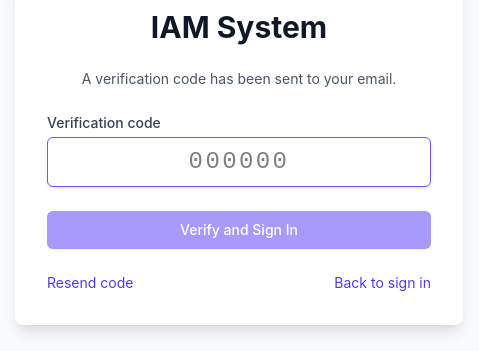
Test: MagicLinkCallbackPage › when the account has email 2FA enabled › resends the code on request
Click the button "Resend code".
click(90, 283)  # box [47,273,133,293]
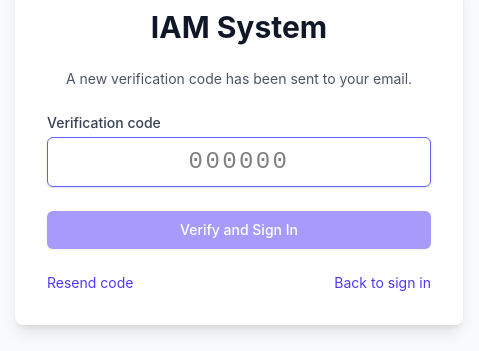
Result: the text "A new verification code has been sent to your email." is shown at [47,69,431,89]
